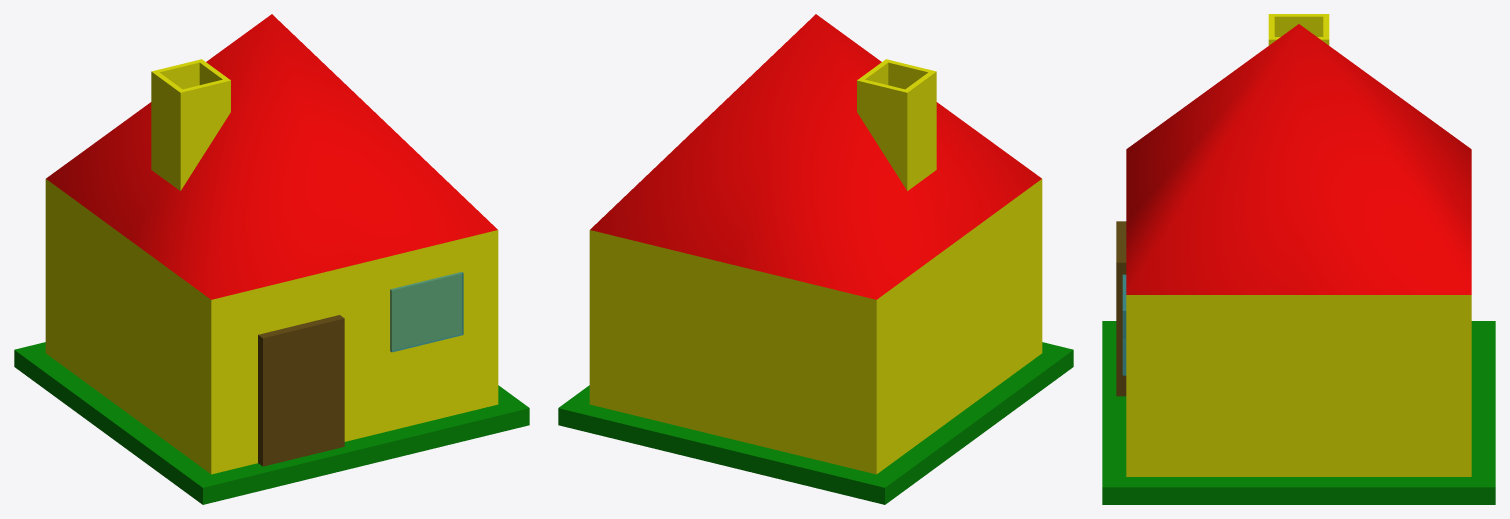
File: HousePrefab.fbx
3 views of the same model, side by side, from view 1: azimuth 30°, elevation 25°; view 2: azimuth 150°, elevation 25°; view 3: azimuth 270°, elevation 25° (orthographic). The views are drawn at different scales.
Parts seen in each view (by area): view 1: pCube1, pCube2, pCube4, pCube3; view 2: pCube1, pCube4; view 3: pCube1, pCube2, pCube4, pCube3.
Boxes of the visible parts, x1=… form: pCube1: x1=14, y1=14, x2=529, y2=504; pCube2: x1=258, y1=315, x2=344, y2=466; pCube4: x1=151, y1=59, x2=230, y2=190; pCube3: x1=390, y1=272, x2=463, y2=352; pCube1: x1=558, y1=14, x2=1073, y2=504; pCube4: x1=857, y1=59, x2=936, y2=190; pCube1: x1=1102, y1=24, x2=1495, y2=504; pCube2: x1=1116, y1=221, x2=1126, y2=396; pCube4: x1=1268, y1=14, x2=1329, y2=45; pCube3: x1=1122, y1=274, x2=1126, y2=375.
Size of the model in its own units: 20 by 22.33 by 20.
